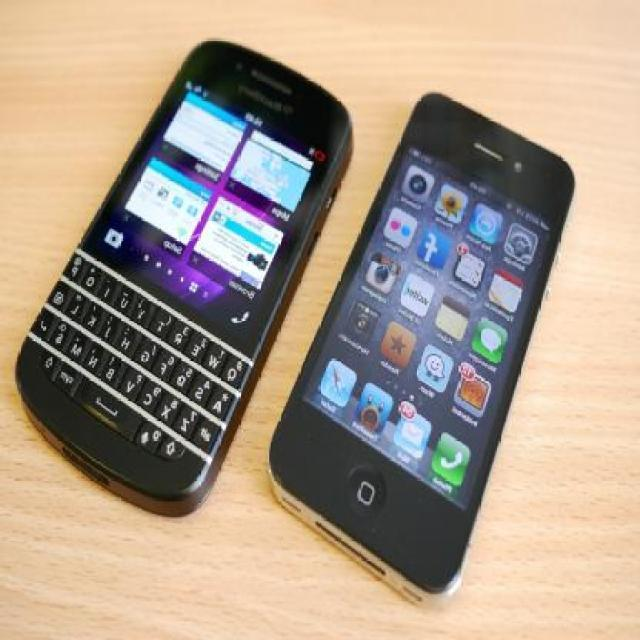phone: (15, 39, 353, 516), (269, 86, 577, 609)
